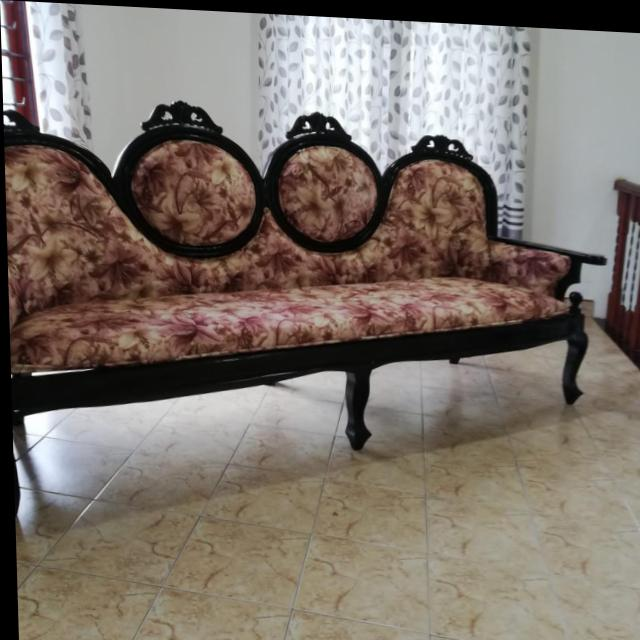Sofa: (2, 92, 602, 539)
